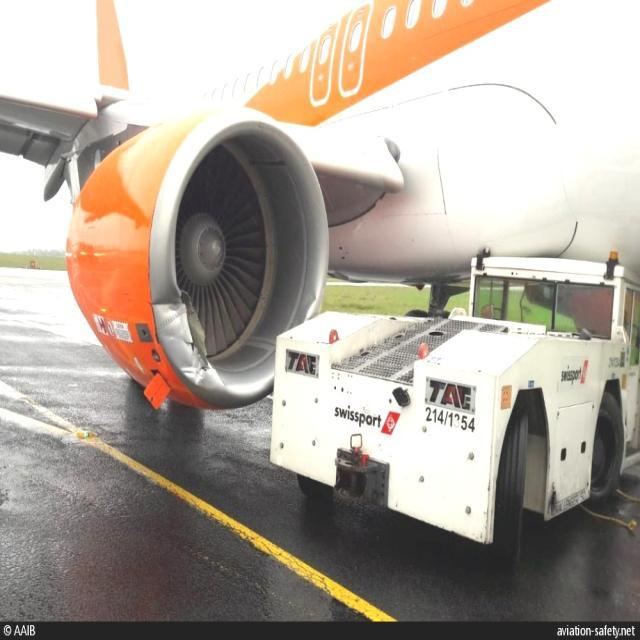crack: (180, 291, 210, 373)
dent: (155, 295, 183, 349), (299, 288, 328, 323), (182, 356, 206, 383)
